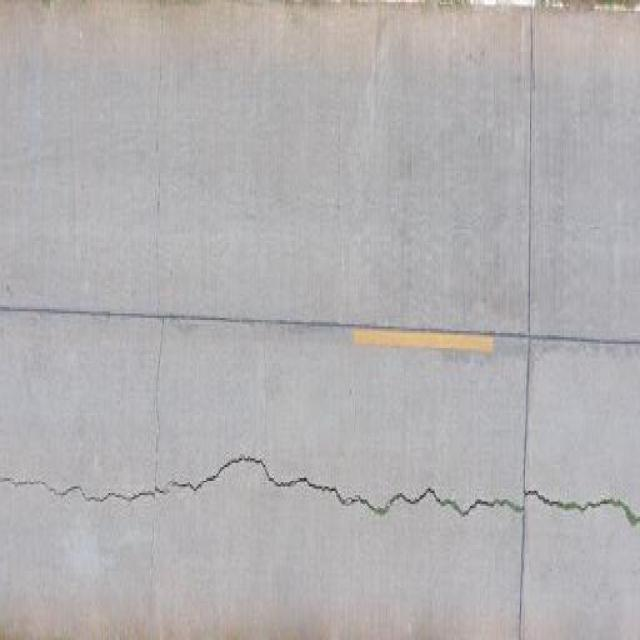Crack: (2, 438, 401, 528), (399, 436, 640, 554)
